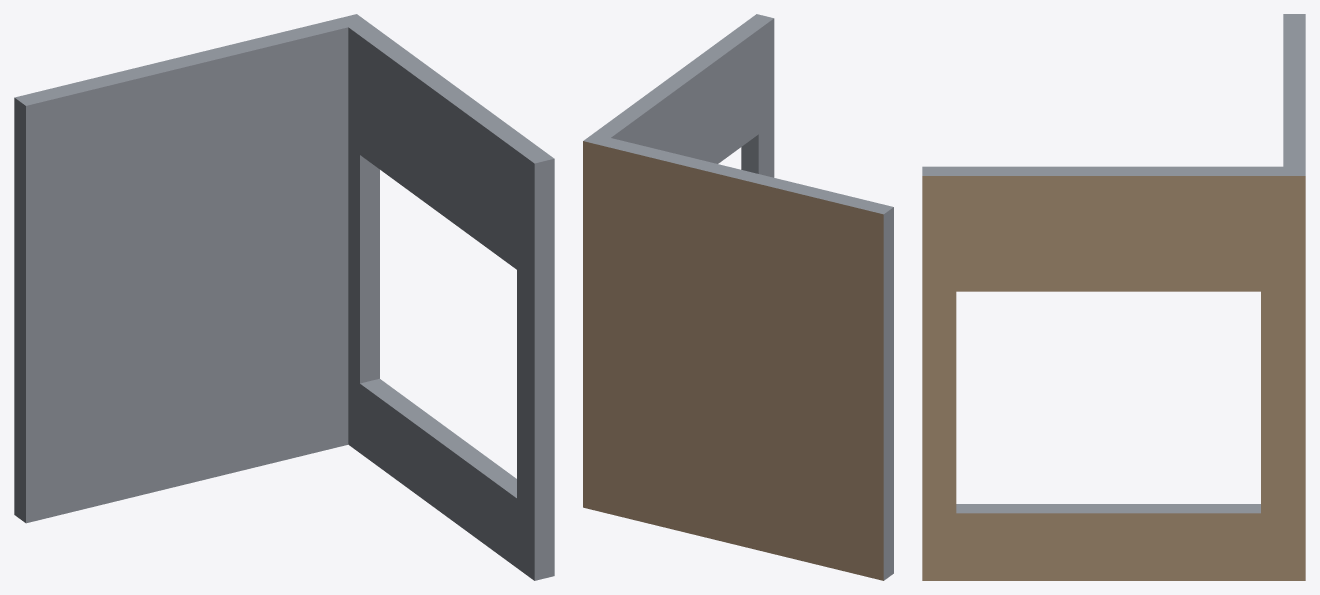
File: Wall2_C6_14.fbx
3 views of the same model, side by side, from view 1: azimuth 30°, elevation 25°; view 2: azimuth 150°, elevation 25°; view 3: azimuth 270°, elevation 25° (orthographic). The views are drawn at different scales.
Visible parts, largest first — view 1: Wall2_C6_14; view 2: Wall2_C6_14; view 3: Wall2_C6_14.
Boxes of the visible parts, x1,y1,x2,y2 form: Wall2_C6_14: [14, 14, 554, 580]; Wall2_C6_14: [583, 14, 893, 580]; Wall2_C6_14: [922, 14, 1305, 580].
Bounding box in the file's own units: 258 × 300 × 258.
